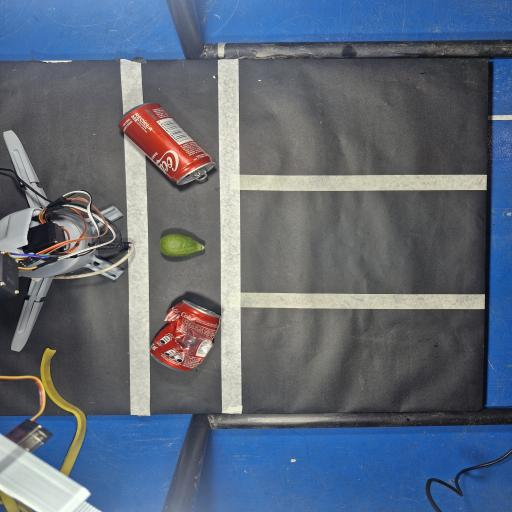higo: (160, 233, 204, 257)
lata: (119, 103, 214, 184)
lata_defectuoso: (151, 300, 220, 372)
